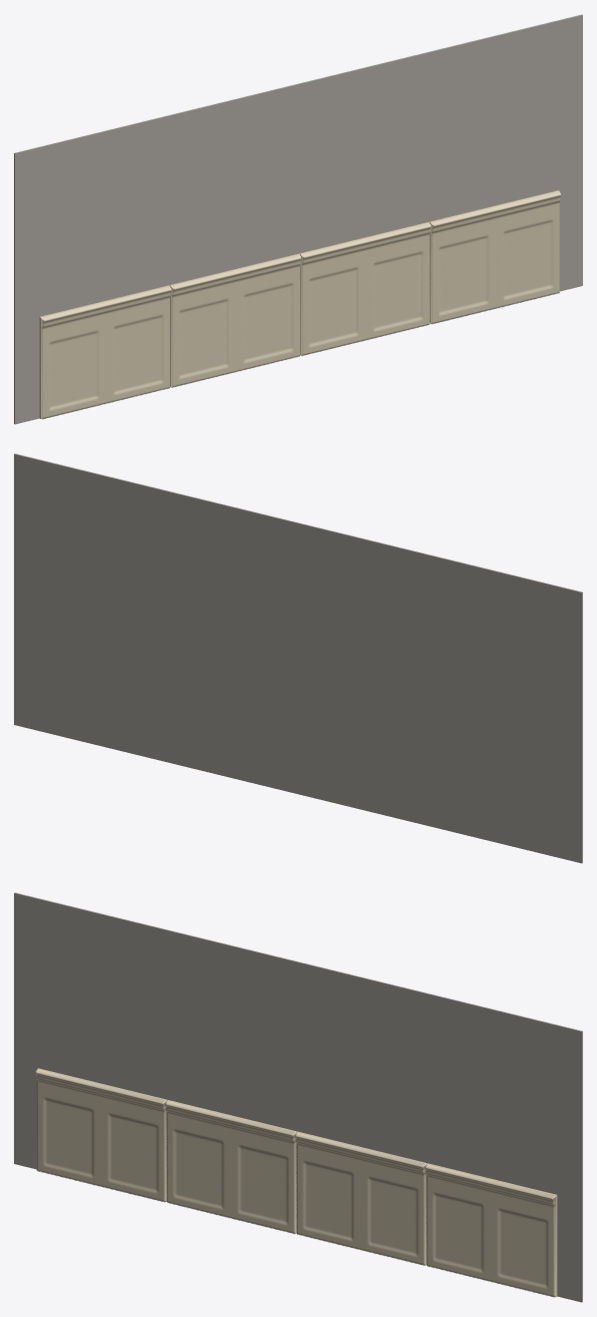
File: terilgan.glb
The picture shows the model from 3 angles, top to bottom: view 1: azimuth 30°, elevation 25°; view 2: azimuth 150°, elevation 25°; view 3: azimuth 330°, elevation 25°; orthographic projection.
Visible parts, largest first — view 1: Devor, t0, t3, t2, t1; view 2: Devor; view 3: Devor, t3, t1, t2, t0.
Part boxes in pixels (left/top/right/bottom): Devor: left=14, top=14, right=582, bottom=424; t0: left=39, top=285, right=171, bottom=419; t3: left=429, top=190, right=561, bottom=324; t2: left=299, top=222, right=431, bottom=356; t1: left=169, top=253, right=301, bottom=387; Devor: left=14, top=453, right=582, bottom=863; Devor: left=14, top=892, right=582, bottom=1302; t3: left=424, top=1163, right=557, bottom=1297; t1: left=165, top=1100, right=297, bottom=1234; t2: left=295, top=1131, right=427, bottom=1265; t0: left=35, top=1068, right=167, bottom=1202.
Size of the model in its own units: 3.51 by 1.6 by 0.0505.
